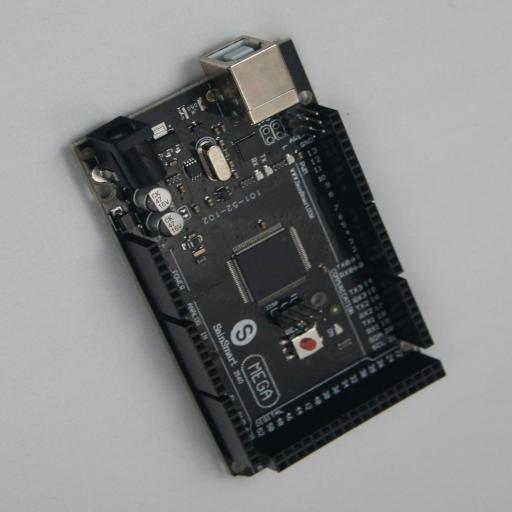Arduino Mega 2560 -Black-: (67, 38, 445, 476)
